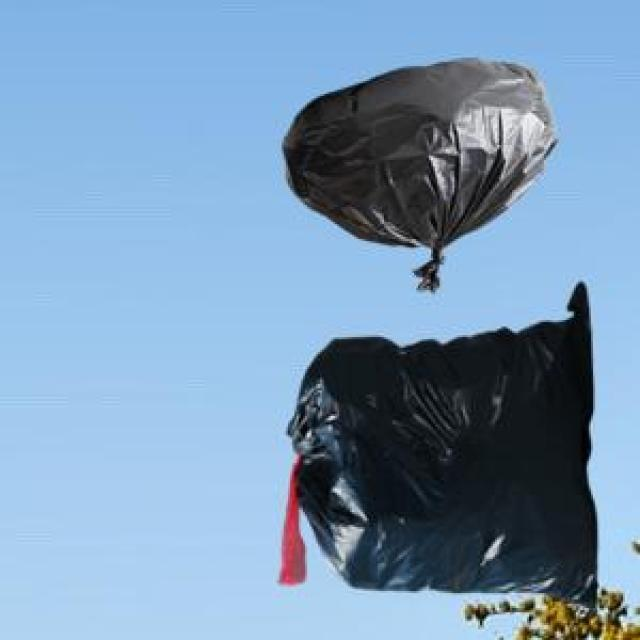Trashbag: (280, 274, 615, 616), (276, 54, 564, 302)
